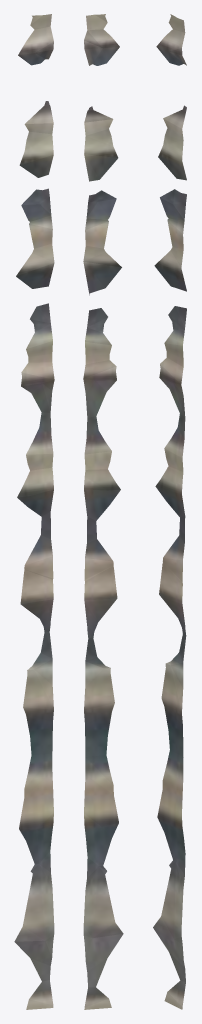
Rendered from Tile_+004_+001_L21_0001410.glb.
3 views of the same model, side by side, from view 1: azimuth 30°, elevation 25°; view 2: azimuth 210°, elevation 25°; view 3: azimuth 330°, elevation 25° (orthographic).
Parts seen in each view (by area): view 1: rtc; view 2: rtc; view 3: rtc.
Part boxes in pixels (x1,y1,x2,y2): rtc: (14, 14, 54, 1009); rtc: (83, 14, 123, 1009); rtc: (153, 14, 186, 1009).
Size of the model in its own units: 0.7193 by 19.82 by 0.2104.
1 material, 1 textured.
